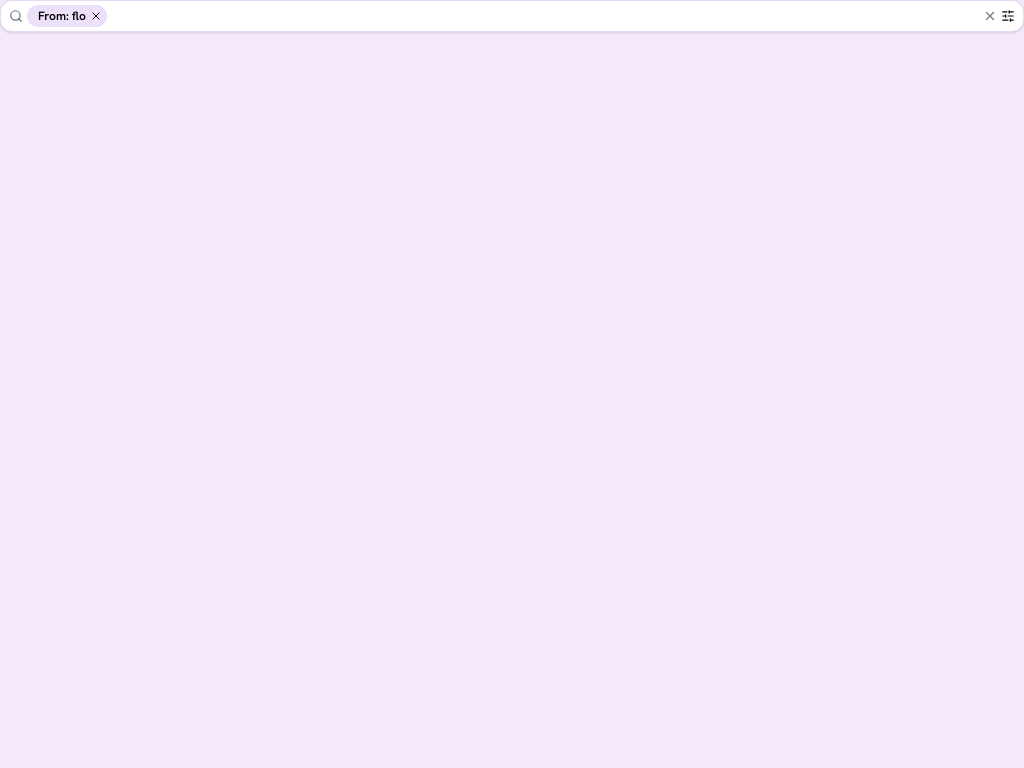
Test case: InboxSearchBar — filter panel › throws away an abandoned draft when closed and reopened
Click the button named "Filter inbox" at (1008, 16), box left=1001, top=9, right=1015, bottom=23
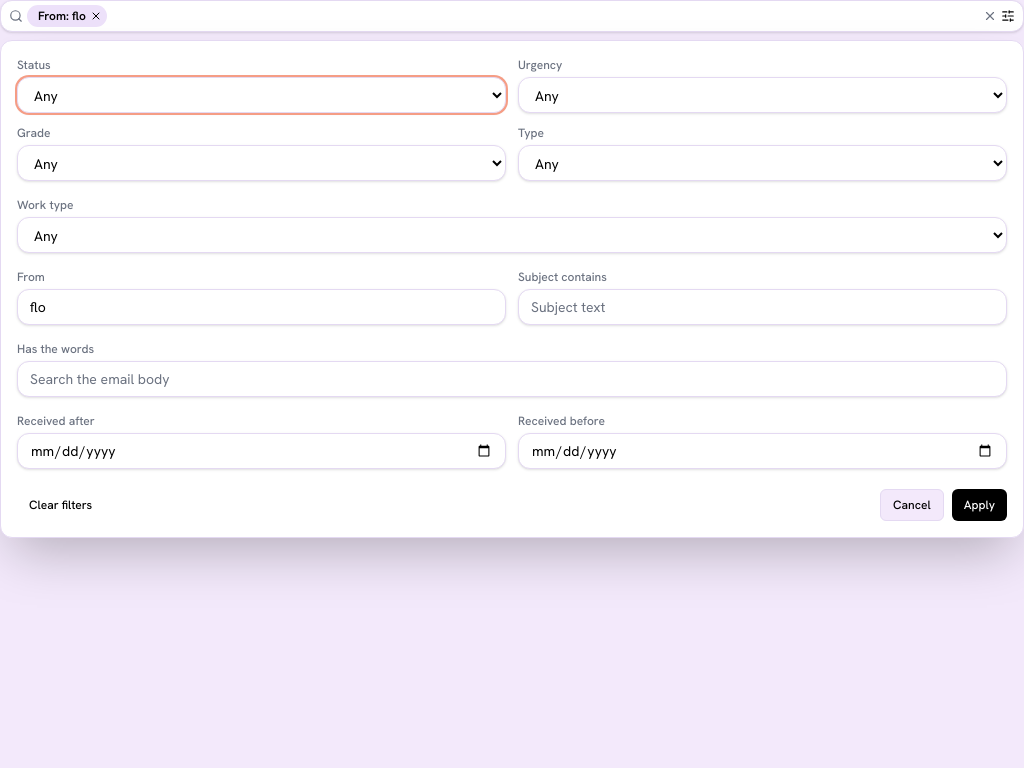
Type "-edited" into the field with placeholder "Name or email" at (262, 307), box left=17, top=289, right=506, bottom=325
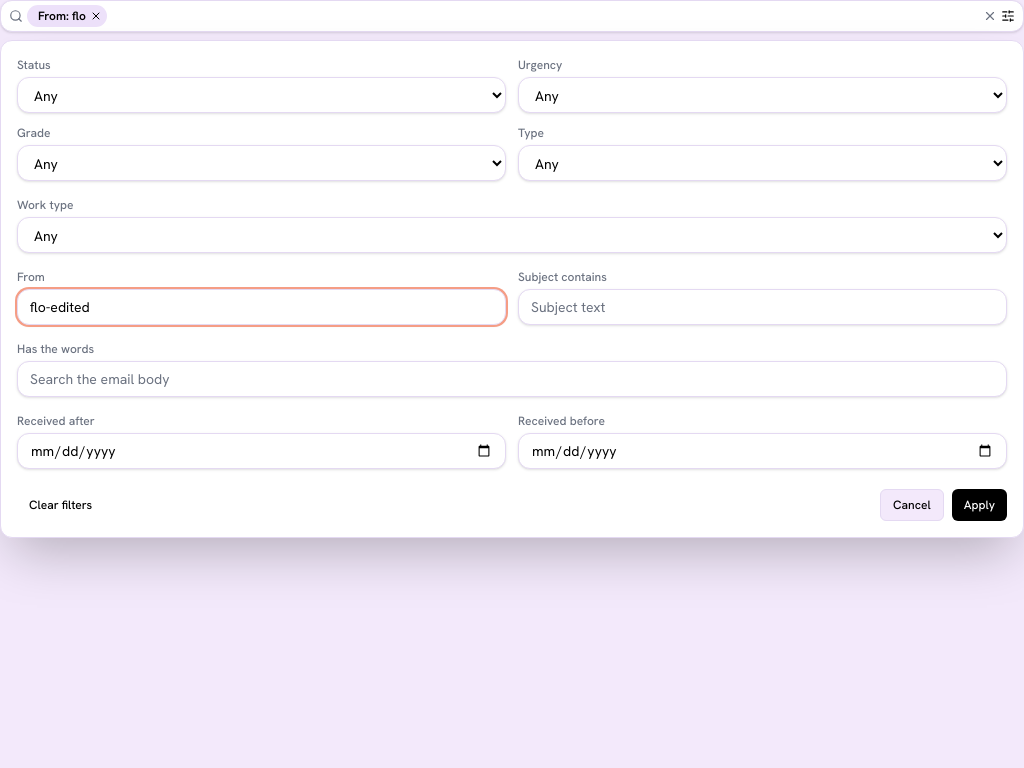
Click the button "Cancel" at (912, 505), box left=880, top=489, right=944, bottom=521
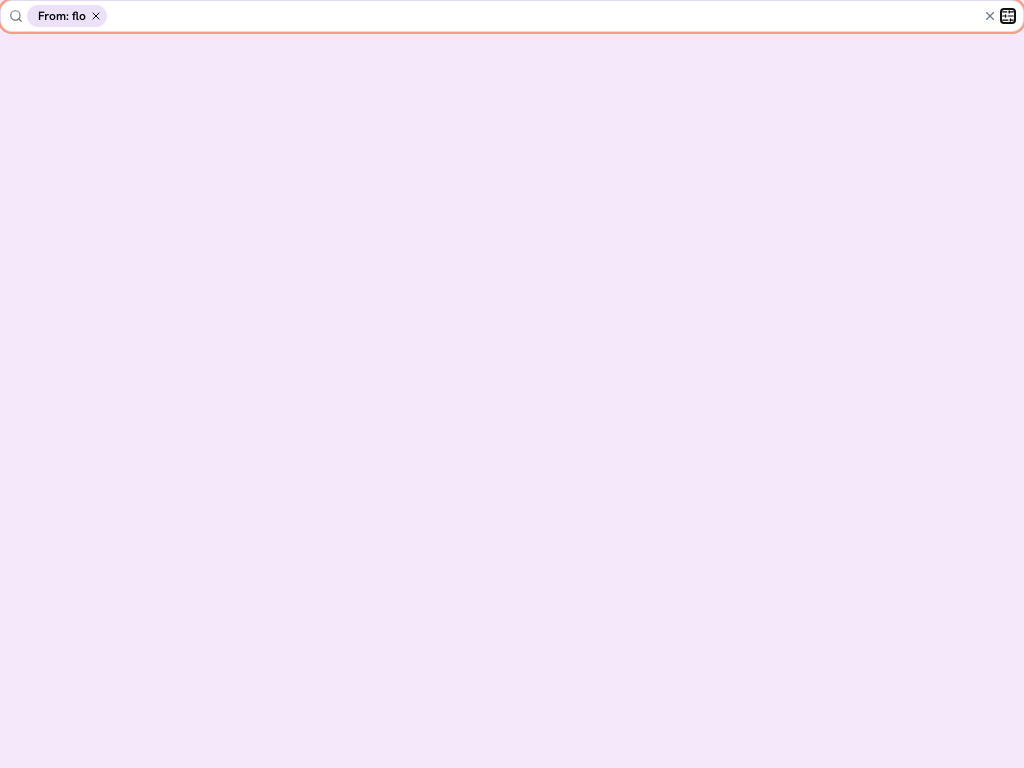
Click the button named "Filter inbox" at (1008, 16), box left=1001, top=9, right=1015, bottom=23
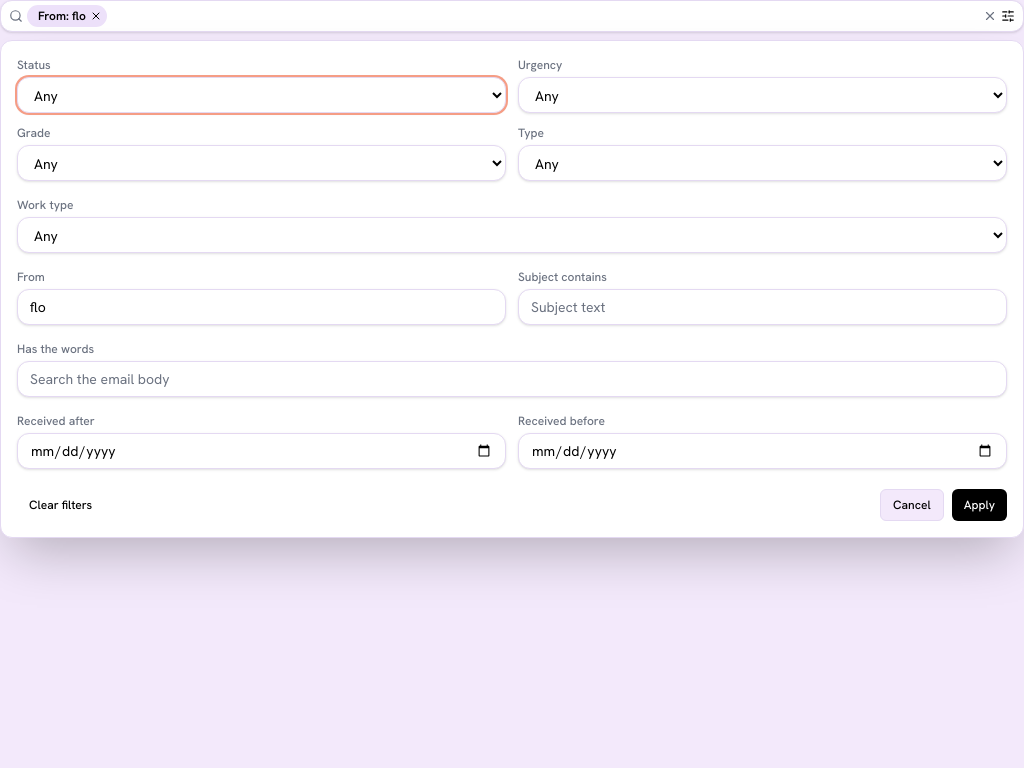
Now the field with placeholder "Name or email" holds "flo", box left=17, top=289, right=506, bottom=325
